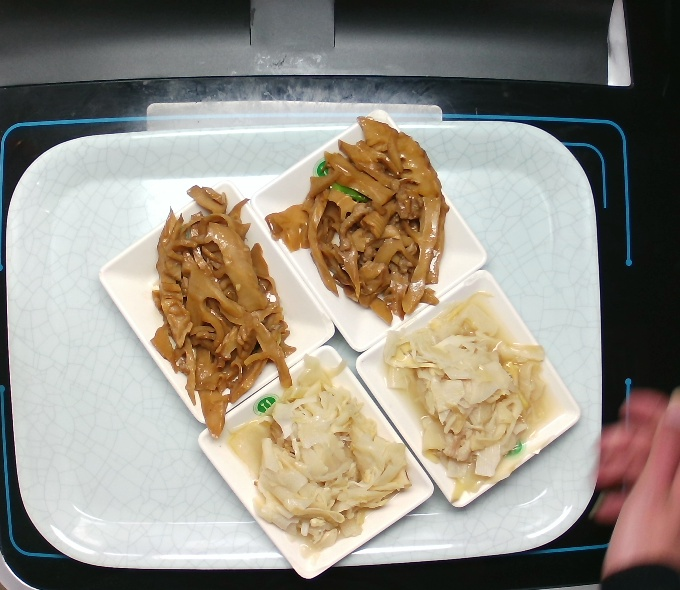wcq-LuSun: (223, 352, 411, 552), (383, 293, 553, 502)
wcq-SunGan: (135, 175, 301, 429), (265, 112, 451, 322)
